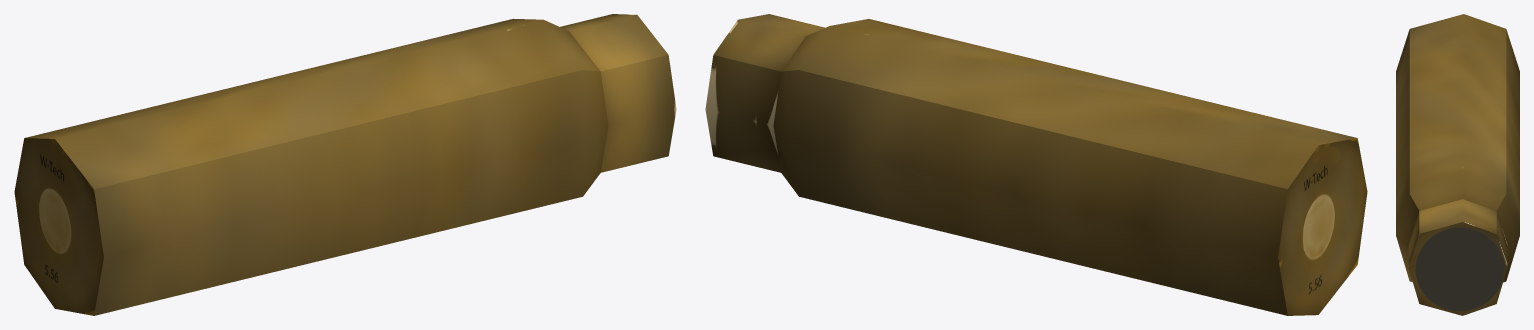
File: RifleCasing.fbx
The picture shows the model from 3 angles, left to right: view 1: azimuth 30°, elevation 25°; view 2: azimuth 150°, elevation 25°; view 3: azimuth 270°, elevation 25°; orthographic projection. The views are drawn at different scales.
Visible parts, largest first — view 1: RifleCasing; view 2: RifleCasing; view 3: RifleCasing.
Boxes of the visible parts, bbox=[...] form: RifleCasing: bbox=[14, 14, 676, 315]; RifleCasing: bbox=[705, 14, 1367, 315]; RifleCasing: bbox=[1396, 14, 1519, 315].
Size of the model in its own units: 4.8 by 1.34 by 1.28.
